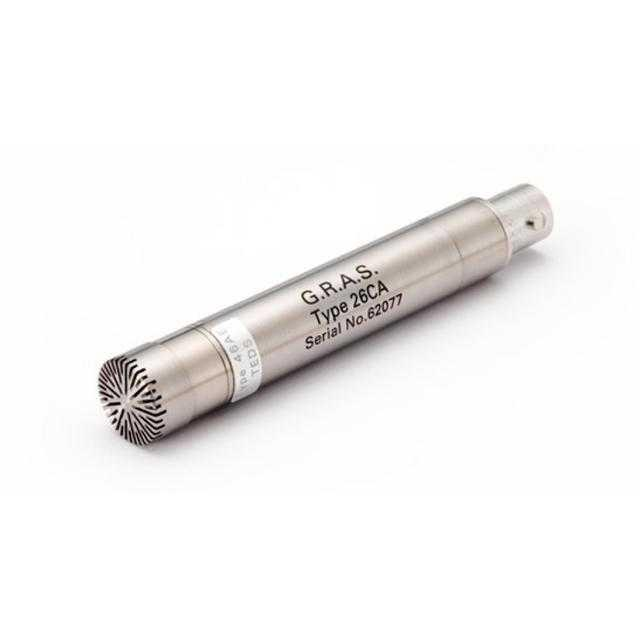microphone: (115, 188, 531, 442)
